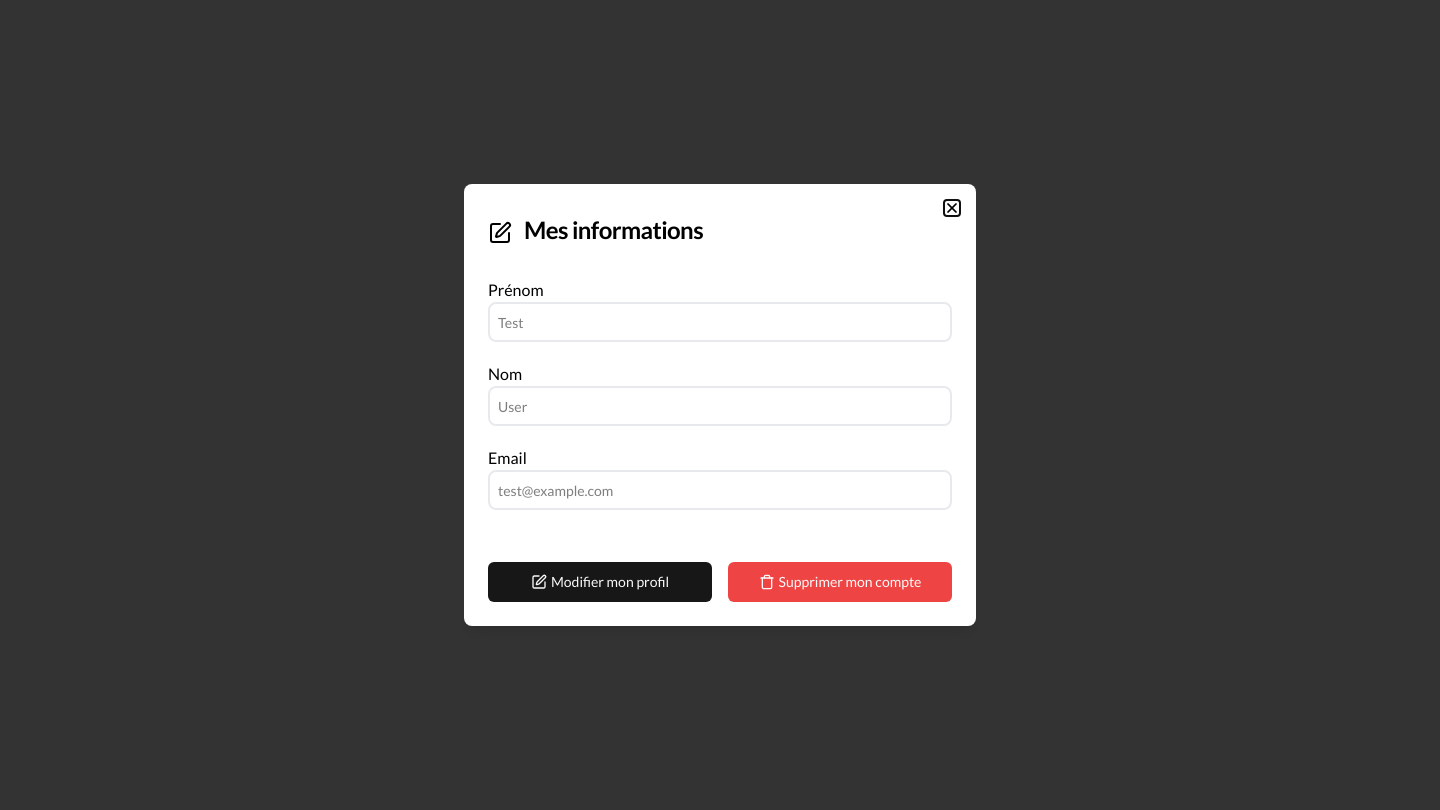
Scenario: UpdateUserDialog › test le bouton modifier mon profil
The image size is (1440, 810).
Click the button "Modifier mon profil".
click(600, 582)  # box [488, 562, 712, 602]
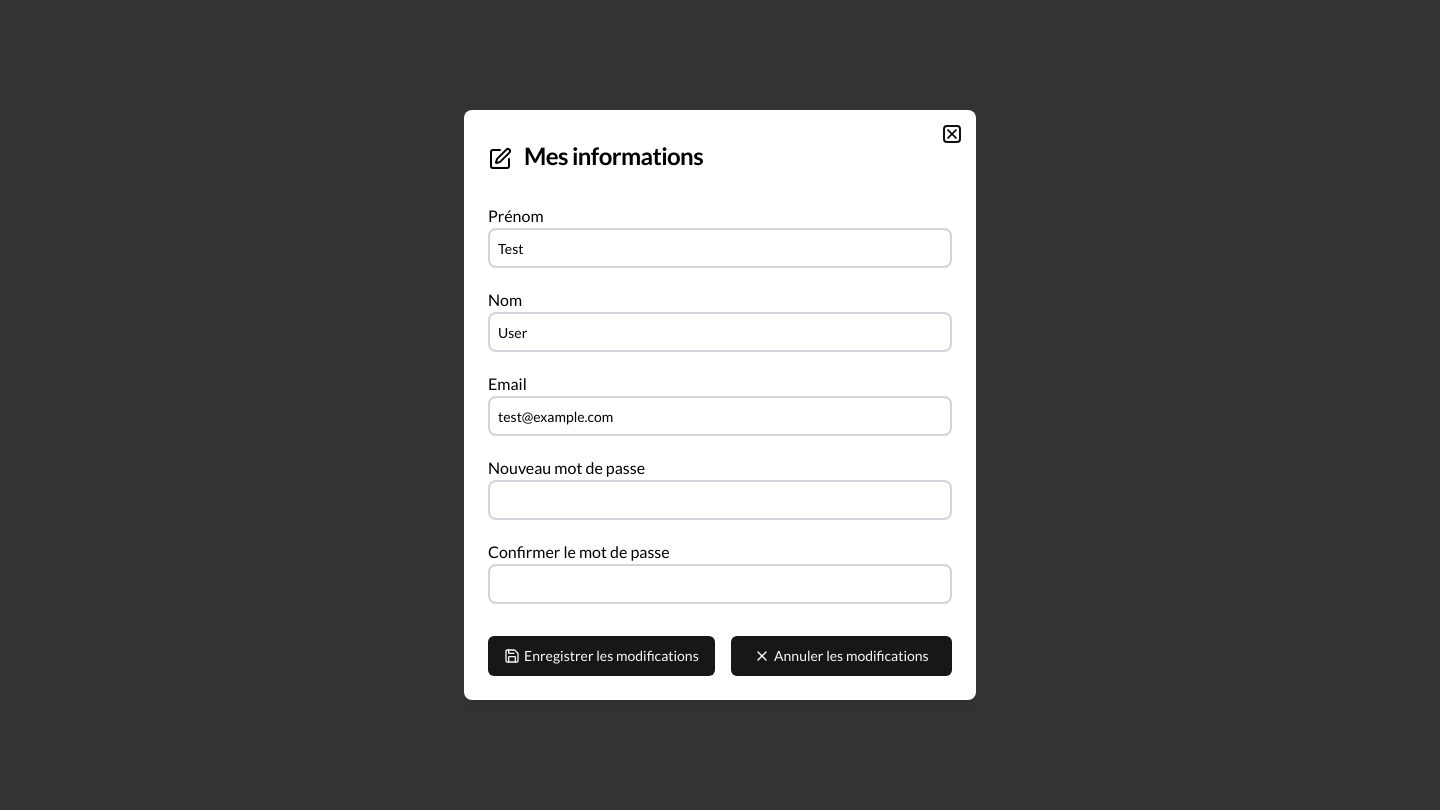
expect the field labelled "Prénom" is enabled: met, box [488, 228, 952, 268]
expect the field labelled "Email" is enabled: met, box [488, 396, 952, 436]
